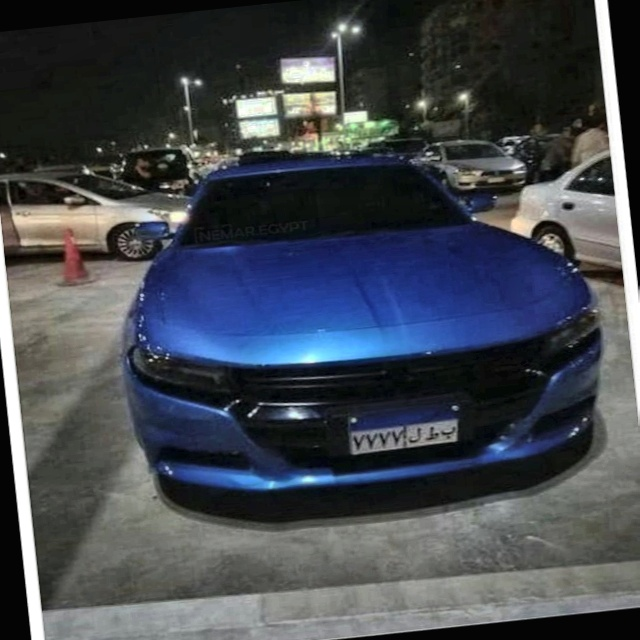License Plate: (345, 400, 465, 457)
